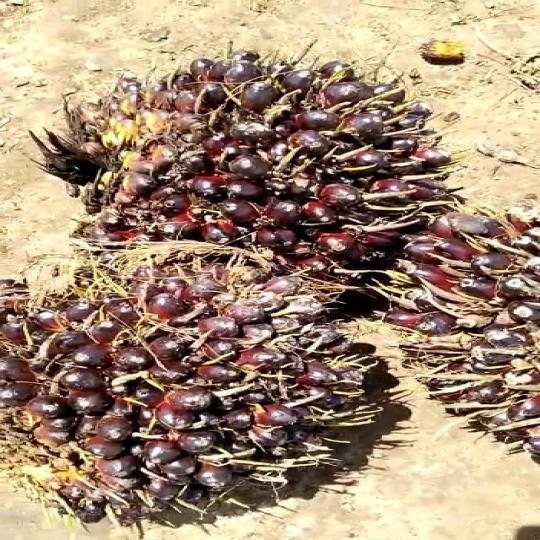mentah: (0, 256, 411, 520), (56, 39, 430, 312), (345, 206, 540, 463)
